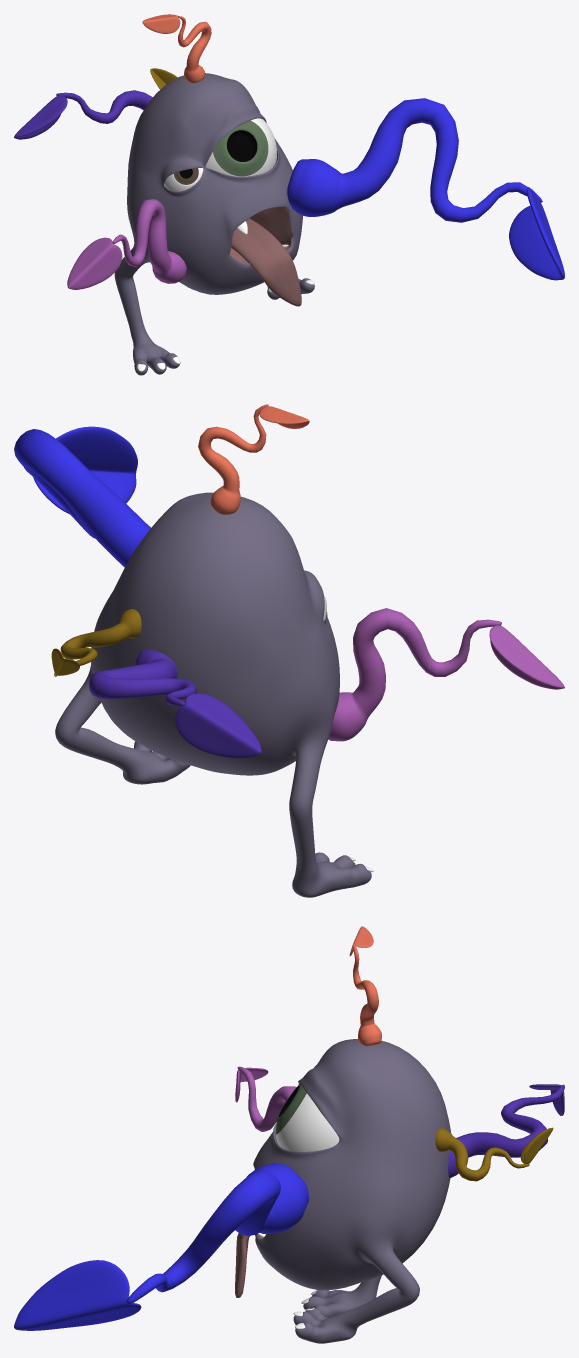
File: Bean_Monster_Instancing_V4.glb
3 views of the same model, one above another, from view 1: azimuth 30°, elevation 25°; view 2: azimuth 150°, elevation 25°; view 3: azimuth 270°, elevation 25° (orthographic). The views are drawn at different scales.
Parts seen in each view (by area): view 1: Instance Child on Parent; view 2: Instance Child on Parent; view 3: Instance Child on Parent.
Boxes of the visible parts, <box> form: Instance Child on Parent: <box>14,14,564,375</box>; Instance Child on Parent: <box>14,404,564,897</box>; Instance Child on Parent: <box>14,926,564,1343</box>.
Bounding box in the file's own units: 84.8 × 63.74 × 81.62.
